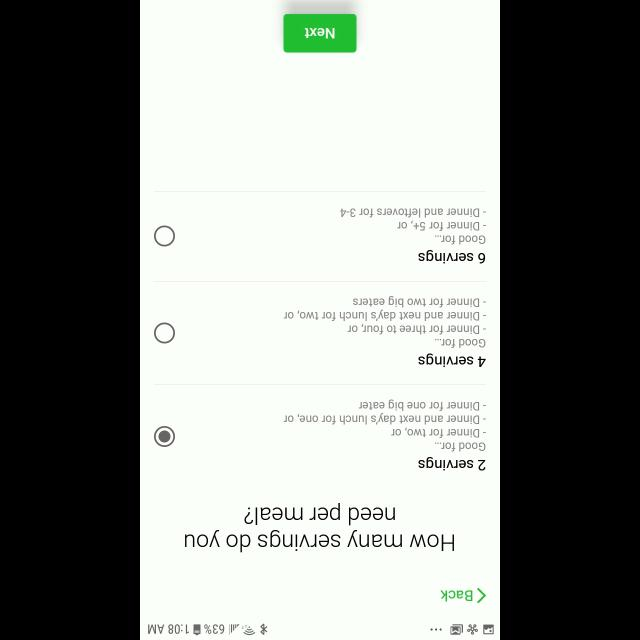checkbox: (154, 427, 176, 447), (153, 226, 174, 246), (155, 323, 175, 343)
icon: (476, 588, 486, 604)
text: (184, 503, 453, 553), (282, 399, 486, 451), (282, 296, 486, 348), (340, 208, 486, 244), (418, 457, 486, 471), (418, 353, 486, 367), (418, 250, 486, 264), (440, 590, 472, 600)
textbutton: (284, 13, 356, 52)
uppertaskbar: (140, 622, 500, 640)
